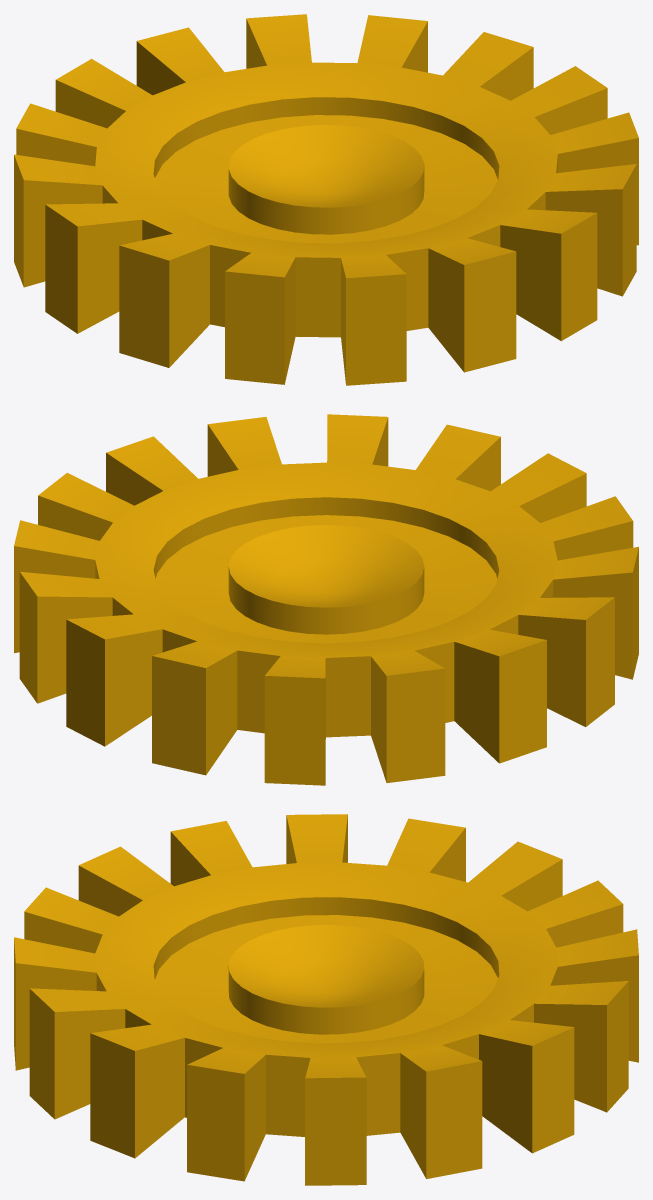
File: GEAR.fbx
3 renders of one model, top to bottom at view 1: azimuth 30°, elevation 25°; view 2: azimuth 150°, elevation 25°; view 3: azimuth 270°, elevation 25°, orthographic.
Visible parts, largest first — view 1: Gear; view 2: Gear; view 3: Gear.
Boxes of the visible parts, x1,y1,x2,y2 form: Gear: (14,14,638,385); Gear: (14,414,638,785); Gear: (14,814,638,1185).
Size of the model in its own units: 1.95 by 0.37 by 1.95.
